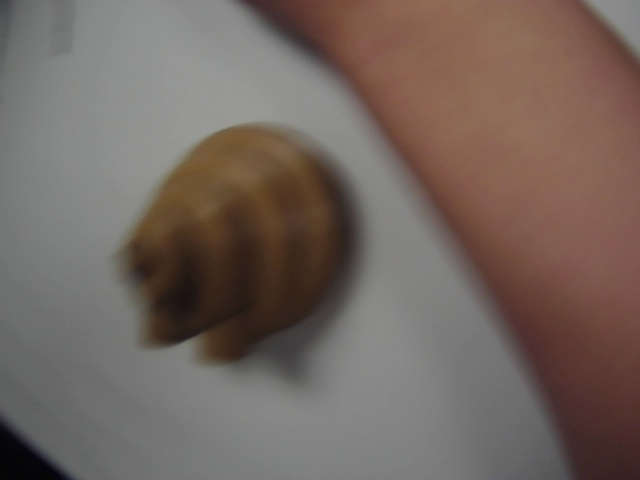shit: (109, 117, 374, 379)
